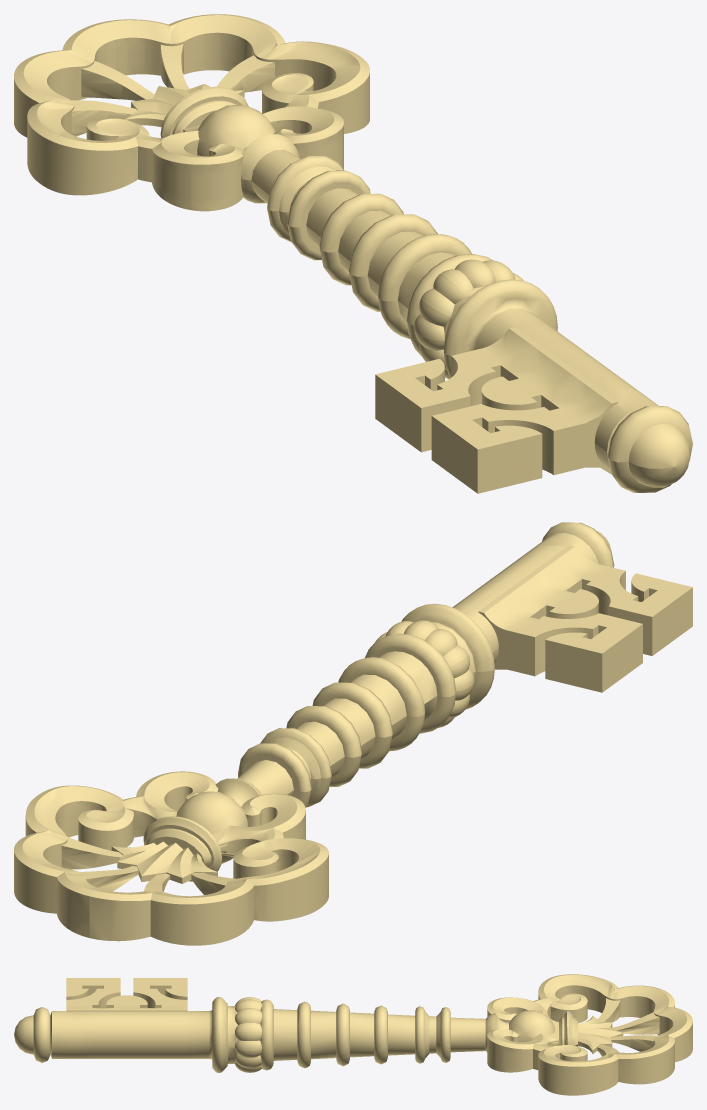
The picture shows the model from 3 angles, top to bottom: view 1: azimuth 30°, elevation 25°; view 2: azimuth 150°, elevation 25°; view 3: azimuth 270°, elevation 25°; orthographic projection. The views are drawn at different scales.
Visible parts, largest first — view 1: Key2; view 2: Key2; view 3: Key2.
Boxes of the visible parts, <box> form: Key2: <box>14,14,692,493</box>; Key2: <box>14,522,692,945</box>; Key2: <box>14,974,692,1095</box>.
Size of the model in its own units: 5.74 by 2 by 17.81.
